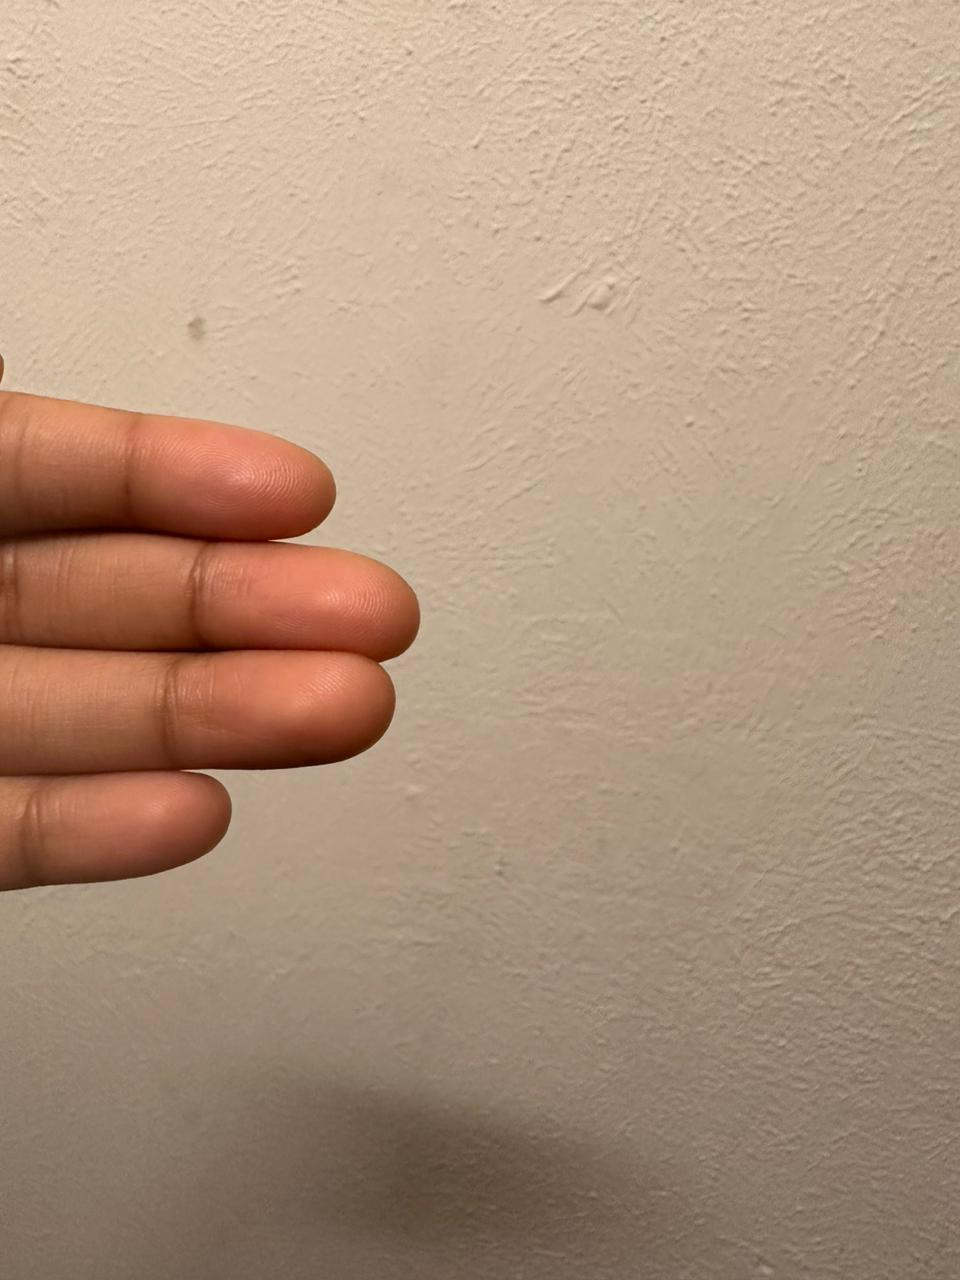finger: (161, 656, 431, 765), (190, 543, 430, 662), (126, 414, 351, 538), (24, 769, 257, 880)
